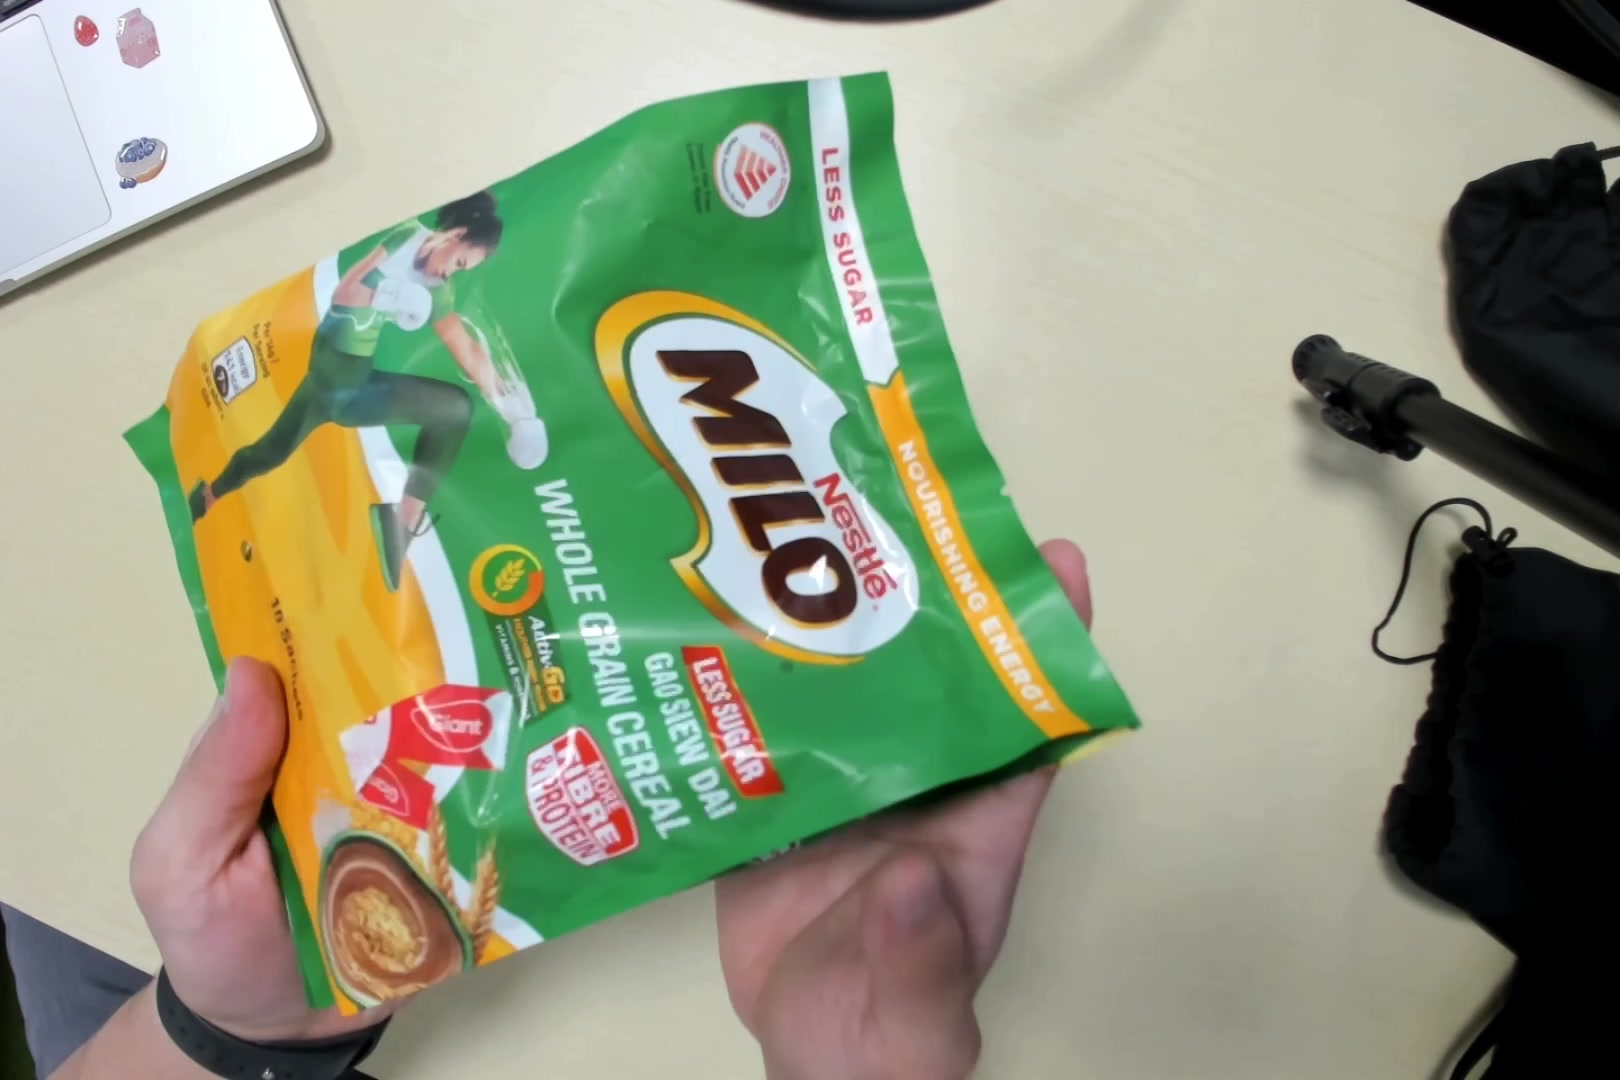ChocolateMaltPowder_300-399g_NonHalal_NonHealthy: (159, 100, 1087, 1003)
